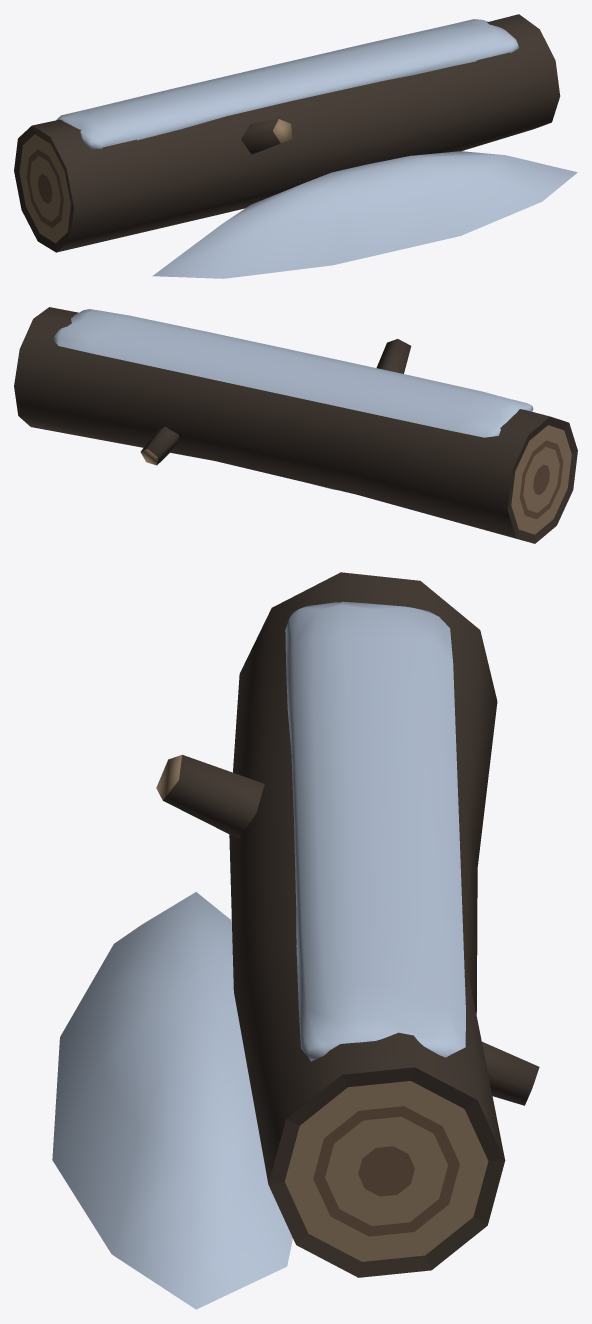
The model's file is fallen_log.glb.
3 renders of one model, top to bottom at view 1: azimuth 30°, elevation 25°; view 2: azimuth 150°, elevation 25°; view 3: azimuth 270°, elevation 25°, orthographic. The views are drawn at different scales.
Visible parts, largest first — view 1: Log; view 2: Log; view 3: Log.
Part boxes in pixels (x1,y1,x2,y2): Log: (14,14,577,278); Log: (14,307,577,543); Log: (52,572,539,1309).
Size of the model in its own units: 1.63 by 0.4177 by 0.6951.
